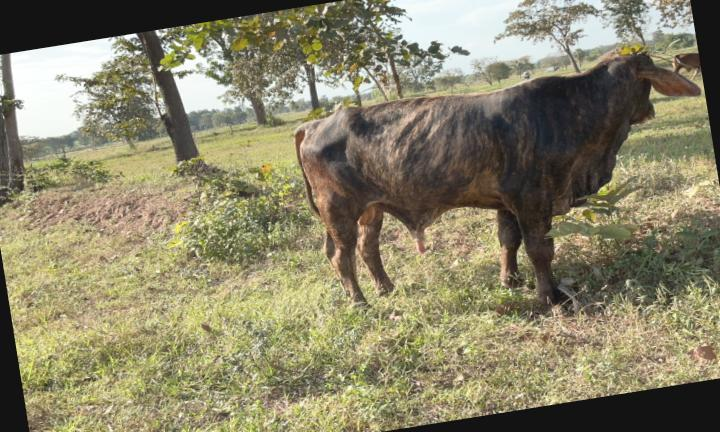Charolais: (295, 53, 700, 302)
